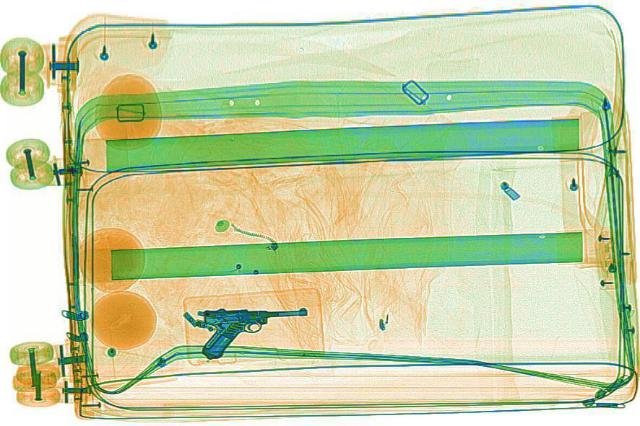Gun: (195, 305, 309, 358)
